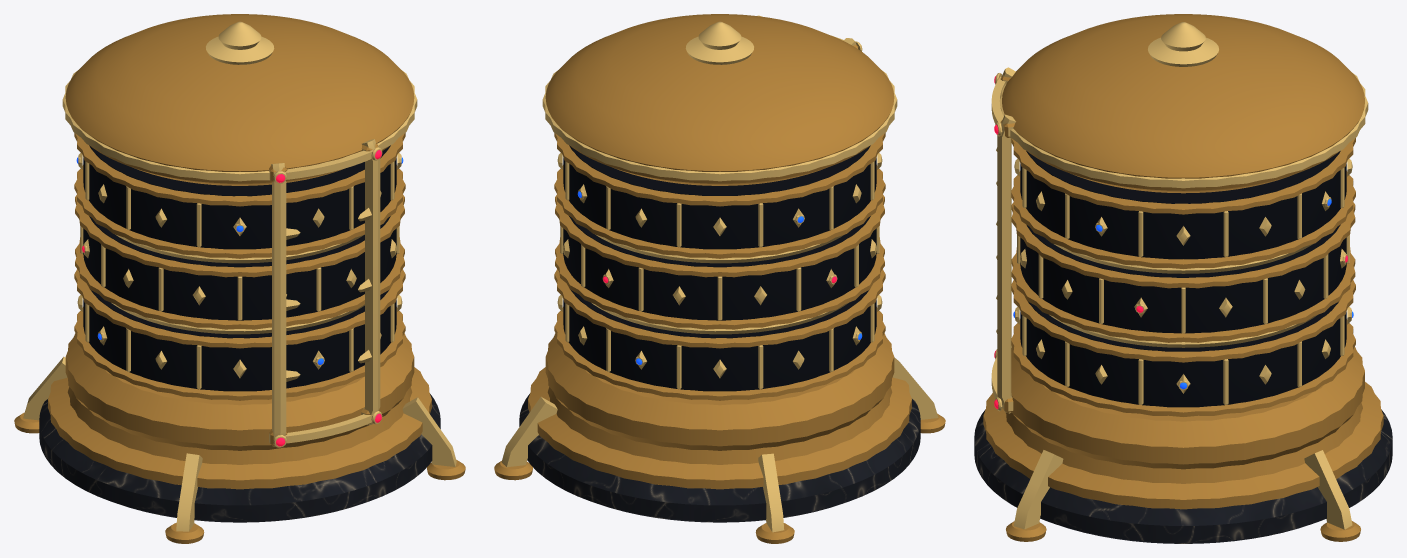
The model's file is codex_cryptex.glb.
The picture shows the model from 3 angles, left to right: view 1: azimuth 30°, elevation 25°; view 2: azimuth 150°, elevation 25°; view 3: azimuth 270°, elevation 25°; orthographic projection. The views are drawn at different scales.
Visible parts, largest first — view 1: Cryptex_Body, Cryptex_Ring_2, Cryptex_Ring_0, Cryptex_Ring_1, Cryptex_Sightlines; view 2: Cryptex_Body, Cryptex_Ring_2, Cryptex_Ring_0, Cryptex_Ring_1; view 3: Cryptex_Body, Cryptex_Ring_2, Cryptex_Ring_0, Cryptex_Ring_1, Cryptex_Sightlines.
Boxes of the visible parts, x1,y1,x2,y2 form: Cryptex_Body: (14,14,465,543); Cryptex_Ring_2: (74,133,405,258); Cryptex_Ring_0: (74,269,405,400); Cryptex_Ring_1: (75,195,404,329); Cryptex_Sightlines: (269,139,382,447); Cryptex_Body: (494,14,945,543); Cryptex_Ring_2: (554,133,885,258); Cryptex_Ring_0: (554,269,885,400); Cryptex_Ring_1: (555,195,884,329); Cryptex_Body: (974,14,1392,543); Cryptex_Ring_2: (1011,138,1355,268); Cryptex_Ring_0: (1011,280,1355,416); Cryptex_Ring_1: (1011,202,1355,342); Cryptex_Sightlines: (991,67,1015,413).
Bounding box in the file's own units: 0.41 × 0.48 × 0.41.
6 materials, 1 textured.
